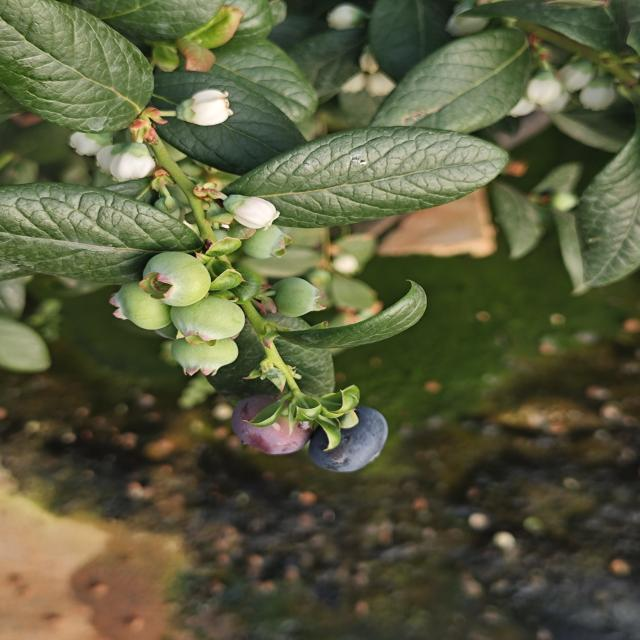ripe: (225, 394, 322, 458), (318, 393, 389, 477)
